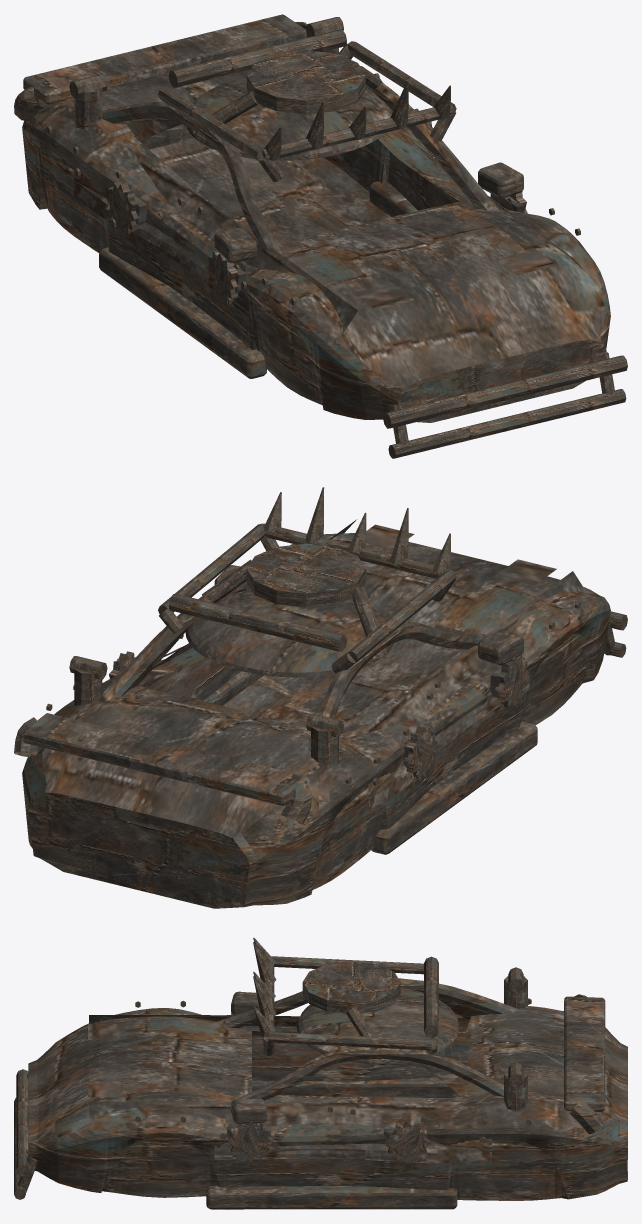
File: stuttgart_959s.glb
3 views of the same model, one above another, from view 1: azimuth 30°, elevation 25°; view 2: azimuth 150°, elevation 25°; view 3: azimuth 270°, elevation 25° (orthographic). The views are drawn at different scales.
Parts seen in each view (by area): view 1: kit-full-plating-painted-metal, kit-bull-bar-painted-metal, kit-turret-mount-painted-metal, kit-cage-painted-metal, kit-scrapper-painted-metal, warlord-crossbar, kit-crown-painted-metal, kit-raider-painted-metal, kit-stack-0-painted-metal, kit-plate-2-painted-metal, kit-saw-0-guard-painted-metal, kit-saw-1-guard-painted-metal; view 2: kit-full-plating-painted-metal, kit-turret-mount-painted-metal, kit-cage-painted-metal, kit-scrapper-painted-metal, warlord-crossbar, kit-crown-painted-metal, kit-raider-painted-metal, kit-stack-0-painted-metal, kit-stack-1-painted-metal, kit-saw-1-guard-painted-metal, kit-saw-0-guard-painted-metal, kit-plate-2-painted-metal (+2 smaller); view 3: kit-full-plating-painted-metal, kit-turret-mount-painted-metal, kit-scrapper-painted-metal, kit-cage-painted-metal, kit-raider-painted-metal, kit-bull-bar-painted-metal, kit-plate-0-painted-metal, kit-saw-0-painted-metal, kit-saw-1-painted-metal, kit-crown-painted-metal, warlord-crossbar, kit-stack-1-painted-metal (+3 smaller).
Boxes of the visible parts, x1=… form: kit-full-plating-painted-metal: x1=14, y1=14, x2=610, y2=422; kit-bull-bar-painted-metal: x1=383, y1=352, x2=627, y2=458; kit-turret-mount-painted-metal: x1=203, y1=50, x2=382, y2=126; kit-cage-painted-metal: x1=158, y1=41, x2=456, y2=181; kit-scrapper-painted-metal: x1=106, y1=130, x2=501, y2=299; warlord-crossbar: x1=169, y1=29, x2=346, y2=87; kit-crown-painted-metal: x1=264, y1=80, x2=450, y2=160; kit-raider-painted-metal: x1=73, y1=149, x2=525, y2=317; kit-stack-0-painted-metal: x1=69, y1=74, x2=107, y2=128; kit-plate-2-painted-metal: x1=257, y1=247, x2=357, y2=339; kit-saw-0-guard-painted-metal: x1=107, y1=181, x2=147, y2=235; kit-saw-1-guard-painted-metal: x1=206, y1=250, x2=246, y2=303; kit-full-plating-painted-metal: x1=14, y1=524, x2=610, y2=908; kit-turret-mount-painted-metal: x1=202, y1=543, x2=378, y2=636; kit-cage-painted-metal: x1=158, y1=523, x2=456, y2=673; kit-scrapper-painted-metal: x1=116, y1=634, x2=497, y2=777; warlord-crossbar: x1=168, y1=594, x2=346, y2=651; kit-crown-painted-metal: x1=264, y1=487, x2=450, y2=573; kit-raider-painted-metal: x1=139, y1=662, x2=529, y2=814; kit-stack-0-painted-metal: x1=306, y1=713, x2=343, y2=767; kit-stack-1-painted-metal: x1=69, y1=656, x2=107, y2=705; kit-saw-1-guard-painted-metal: x1=490, y1=654, x2=528, y2=707; kit-saw-0-guard-painted-metal: x1=403, y1=724, x2=437, y2=777; kit-plate-2-painted-metal: x1=486, y1=571, x2=587, y2=665; kit-full-plating-painted-metal: x1=28, y1=978, x2=627, y2=1209; kit-turret-mount-painted-metal: x1=302, y1=961, x2=400, y2=1050; kit-scrapper-painted-metal: x1=226, y1=1015, x2=437, y2=1153; kit-cage-painted-metal: x1=263, y1=956, x2=437, y2=1055; kit-raider-painted-metal: x1=214, y1=1130, x2=491, y2=1163; kit-bull-bar-painted-metal: x1=14, y1=1069, x2=37, y2=1199; kit-plate-0-painted-metal: x1=89, y1=1101, x2=232, y2=1146; kit-saw-0-painted-metal: x1=383, y1=1120, x2=429, y2=1163; kit-saw-1-painted-metal: x1=226, y1=1121, x2=273, y2=1161; kit-crown-painted-metal: x1=253, y1=937, x2=276, y2=1037; warlord-crossbar: x1=424, y1=956, x2=438, y2=1038; kit-stack-1-painted-metal: x1=504, y1=1062, x2=527, y2=1111.
Size of the model in its own units: 2.33 by 1.71 by 4.89.
1 material, 1 textured.
